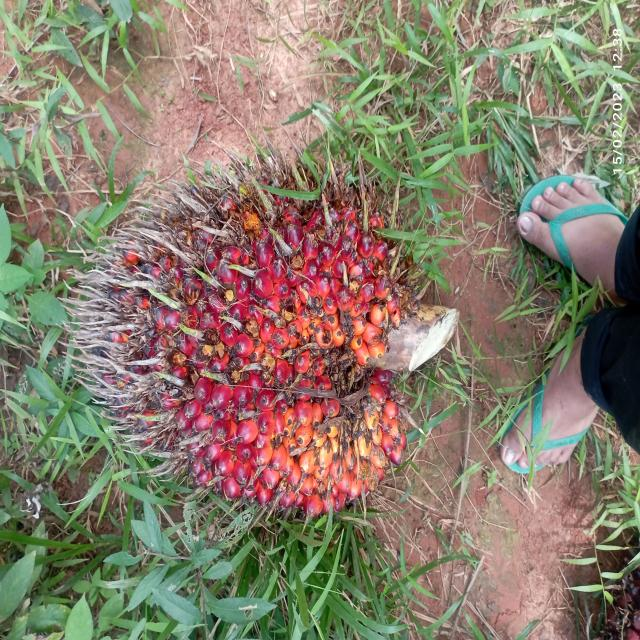fraksi 3: (64, 120, 469, 553)
